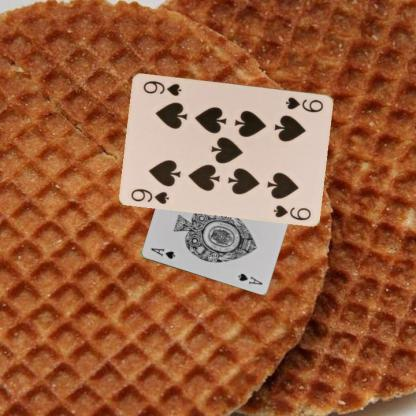9s: (283, 94, 325, 114), (129, 186, 170, 205)
As: (148, 246, 176, 260)
